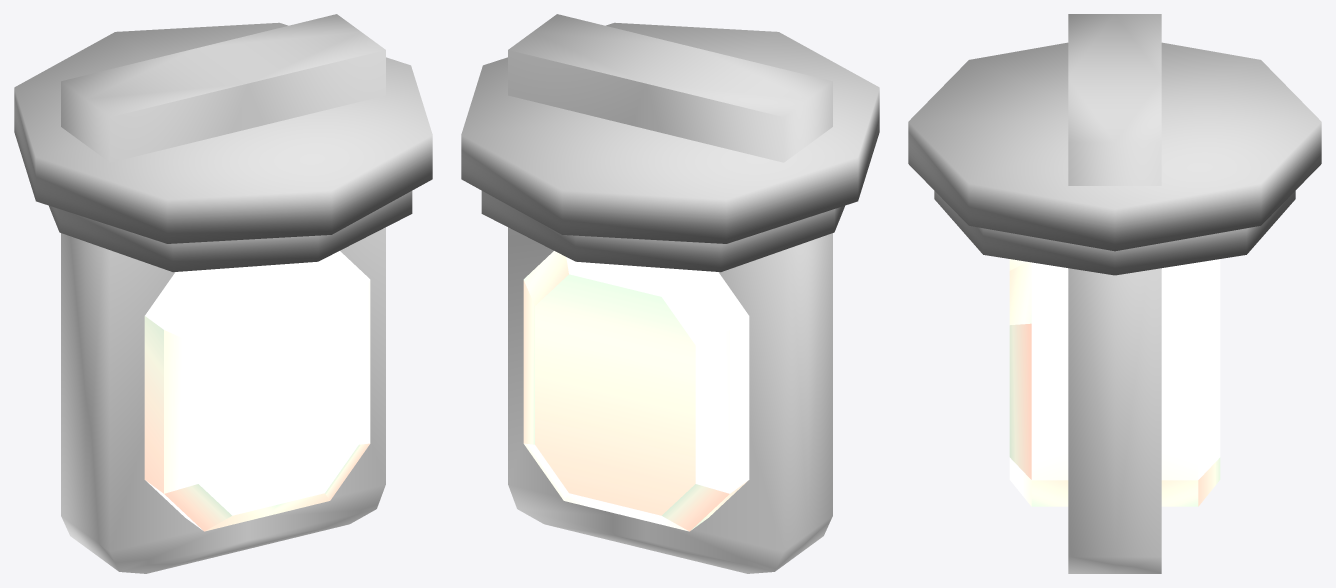
The model's file is stone_pommel_200.glb.
3 views of the same model, side by side, from view 1: azimuth 30°, elevation 25°; view 2: azimuth 150°, elevation 25°; view 3: azimuth 270°, elevation 25° (orthographic). The views are drawn at different scales.
Parts seen in each view (by area): view 1: stone_pommel.200; view 2: stone_pommel.200; view 3: stone_pommel.200.
Boxes of the visible parts, bbox=[...] form: stone_pommel.200: bbox=[14, 14, 432, 573]; stone_pommel.200: bbox=[461, 14, 879, 573]; stone_pommel.200: bbox=[908, 14, 1321, 573].
Bounding box in the file's own units: 1.83 × 2.17 × 1.83.
1 material, 1 textured.
